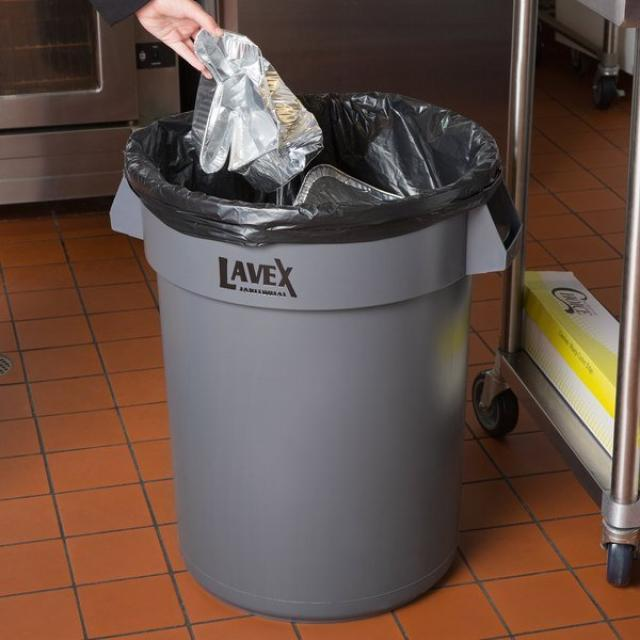Dumpster: (107, 92, 525, 622)
